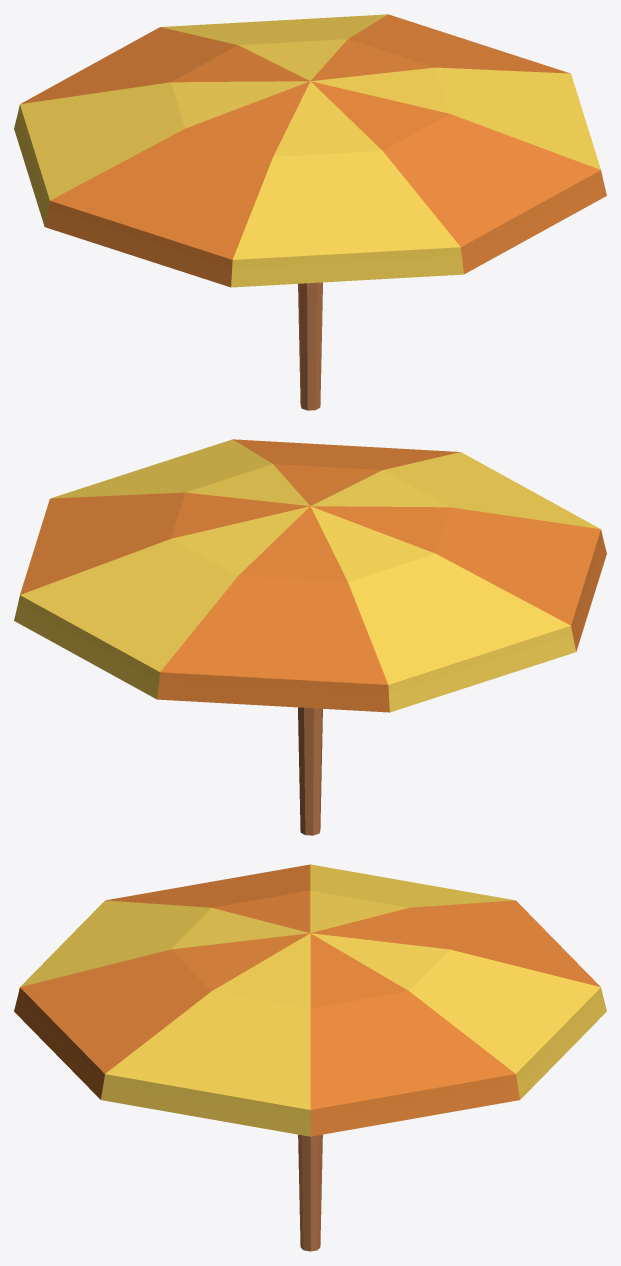
File: table_ombrella.fbx
The picture shows the model from 3 angles, top to bottom: view 1: azimuth 30°, elevation 25°; view 2: azimuth 150°, elevation 25°; view 3: azimuth 270°, elevation 25°; orthographic projection. The views are drawn at different scales.
Visible parts, largest first — view 1: table_ombrella; view 2: table_ombrella; view 3: table_ombrella.
Boxes of the visible parts, <box> form: table_ombrella: <box>14,14,606,410</box>; table_ombrella: <box>14,439,606,835</box>; table_ombrella: <box>14,864,606,1251</box>.
Size of the model in its own units: 355 by 207 by 355.
Materials: 1 (1 with a texture image).
